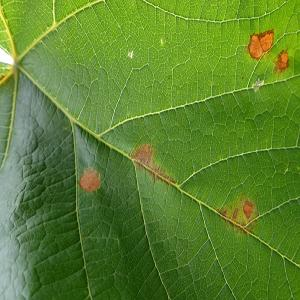Folha: (0, 0, 300, 299)
Fungo: (130, 142, 258, 235), (131, 142, 175, 186), (216, 194, 258, 234), (247, 28, 274, 59), (78, 167, 100, 193), (217, 203, 239, 228), (133, 142, 154, 168), (272, 46, 290, 76), (226, 206, 238, 228), (242, 199, 254, 219), (252, 78, 264, 92), (217, 207, 227, 221), (231, 207, 239, 221), (168, 174, 176, 184), (127, 50, 133, 58)
